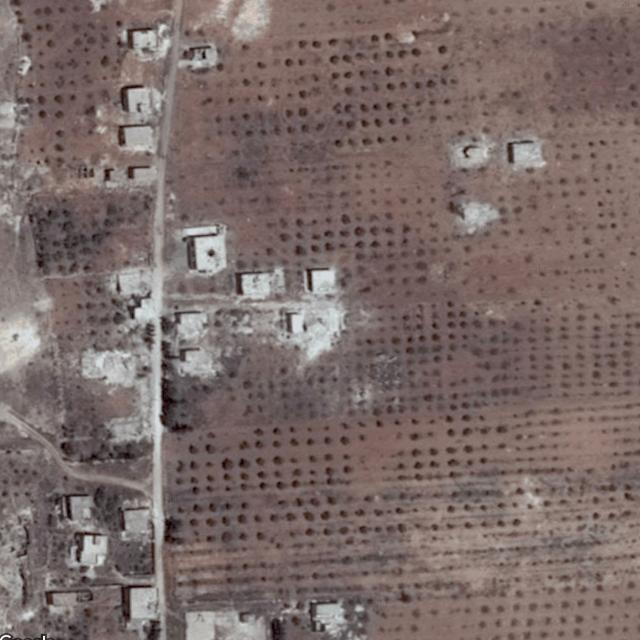damaged_building: (76, 344, 154, 442), (275, 306, 343, 359), (176, 346, 221, 378), (452, 138, 494, 172), (108, 268, 151, 296)
